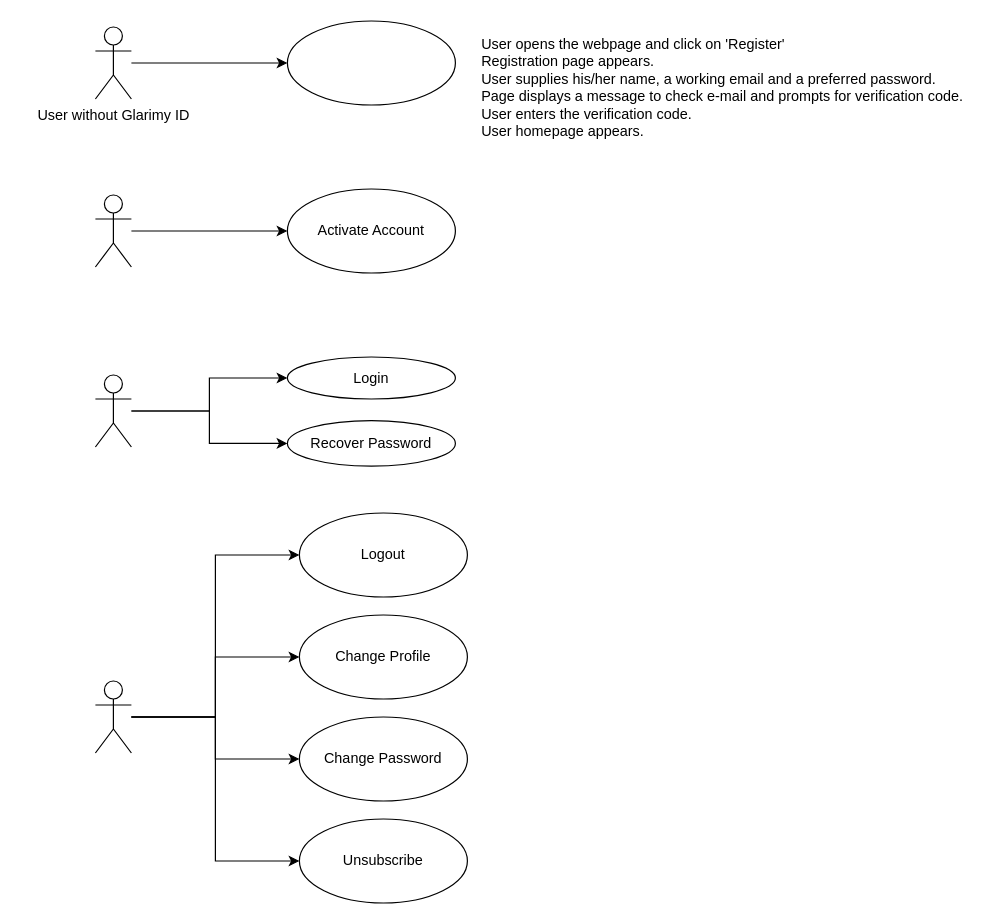
The diagram is 1004 pixels wide and 924 high, and some of its shapes have lost their labels. The shapes that lost their labels are listed below. From the top down, each one's centre as x and y in pixels, then its label:
At point 370,62: "Register".
At point 112,230: "User with Inactive Glarimy ID".
At point 112,410: "User with Active Glarimy ID (Not Logged-in)".
At point 112,716: "User with Active Glarimy ID (Logged-in)".
